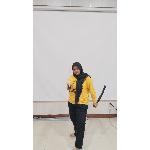Pedang: (65, 60, 75, 94)
